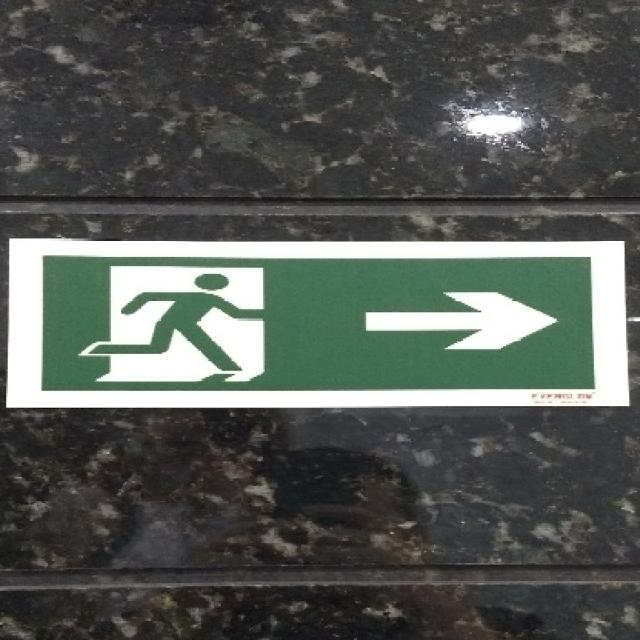exit_sign: (9, 220, 627, 418)
